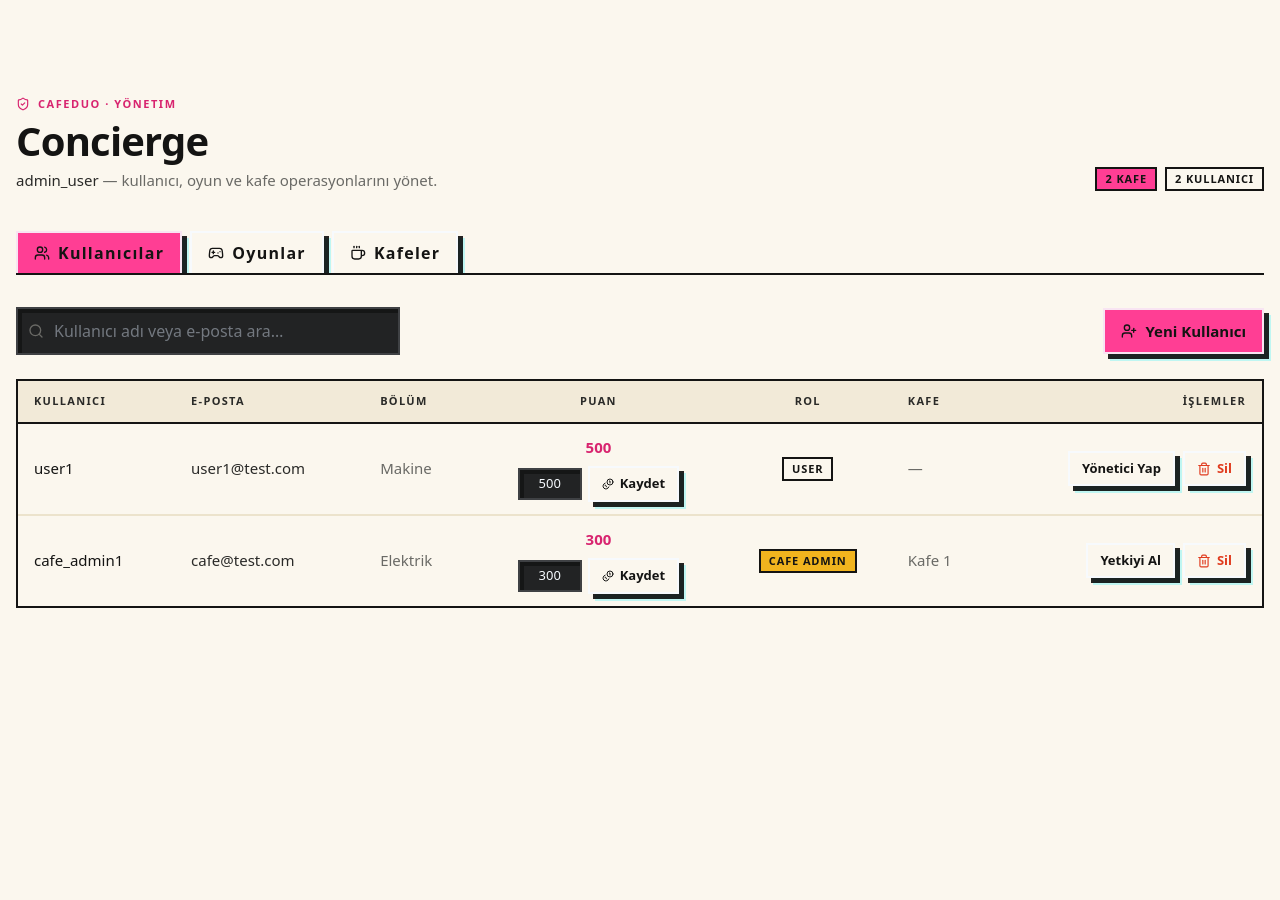
Test: AdminDashboard › opens cafe admin modal when promoting user
Expected: the text "user1" is shown, 18,422 -> 175,514
What coordinates should you click on to do the following:
click the button "Yönetici Yap"
I would click on:
 (1121, 469)
Its box is 1068,451 -> 1175,486.
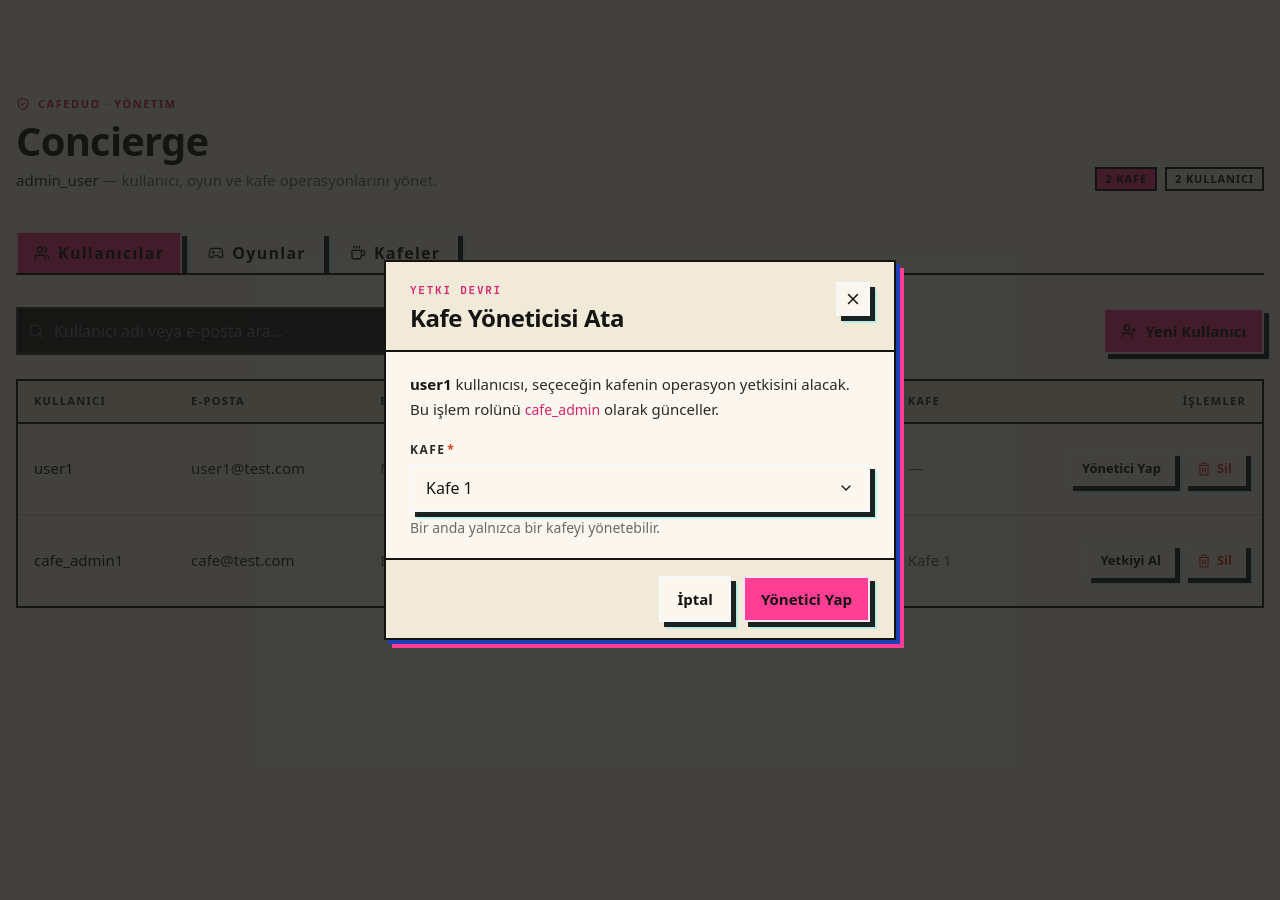
Expected: the heading "Kafe Yöneticisi Ata" is shown, 410,302 -> 624,334
